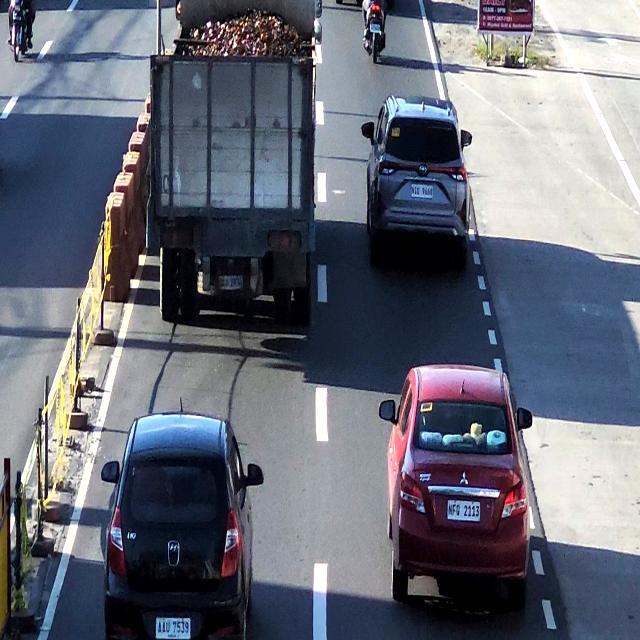Car: (388, 364, 530, 607), (105, 413, 252, 640), (362, 89, 475, 275)
License-Plate: (446, 495, 484, 524), (153, 616, 191, 640), (216, 270, 244, 294), (410, 184, 434, 199), (369, 26, 383, 35)
Motorcycle: (362, 0, 387, 59)
Truck: (162, 0, 318, 324)
